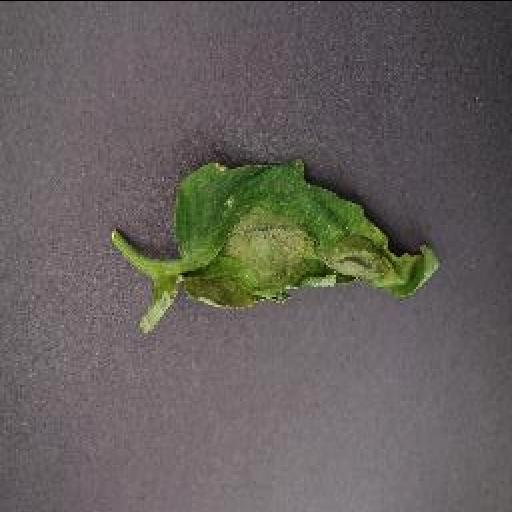disease_tomato: (138, 150, 444, 336)
